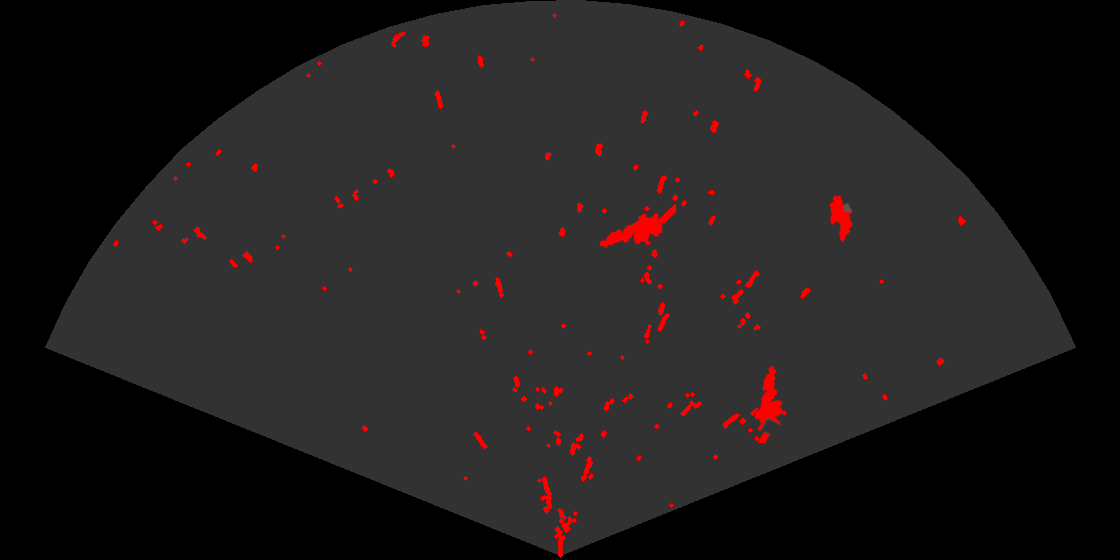AUV: (828, 193, 854, 244)
frogman: (598, 202, 676, 249), (753, 364, 788, 443)
